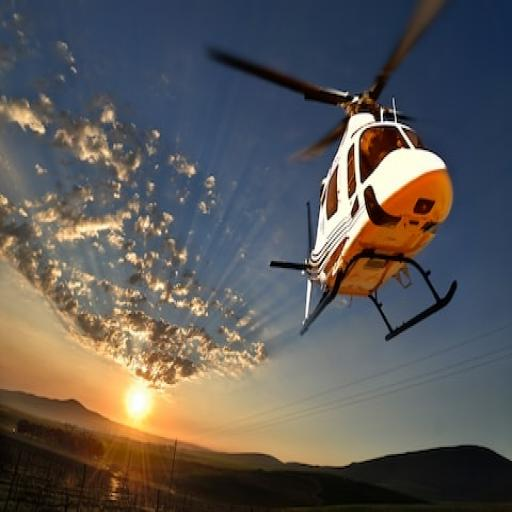helicopter: (206, 3, 472, 349)
